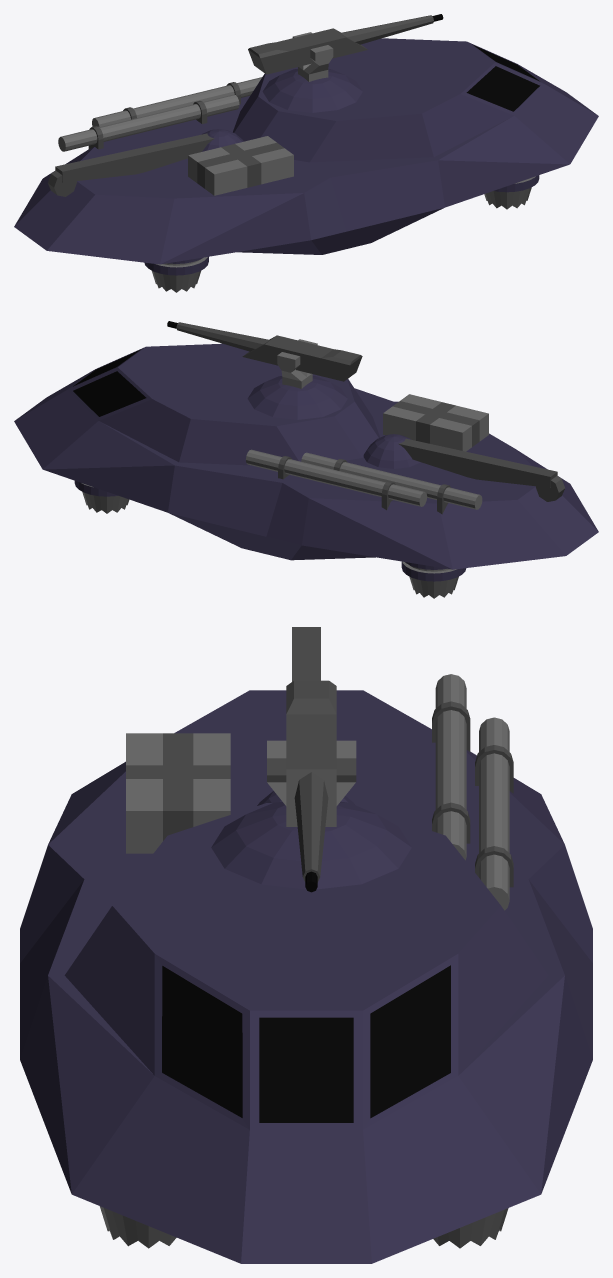
3 renders of one model, top to bottom at view 1: azimuth 30°, elevation 25°; view 2: azimuth 150°, elevation 25°; view 3: azimuth 270°, elevation 25°, orthographic. The views are drawn at different scales.
Visible parts, largest first — view 1: Body, Turret, Gune_Base, Reactor RR, Cannon, Reactor FR; view 2: Body, Turret, Gune_Base, Reactor RL, Cannon, Reactor FL; view 3: Body, Turret, Gune_Base, Cannon, Reactor FR, Reactor FL.
Part boxes in pixels (x1=…): Body: x1=14, y1=38, x2=598, y2=264; Turret: x1=262, y1=32, x2=362, y2=112; Gune_Base: x1=248, y1=28, x2=367, y2=74; Reactor RR: x1=144, y1=256, x2=208, y2=292; Cannon: x1=340, y1=14, x2=443, y2=44; Reactor FR: x1=484, y1=175, x2=539, y2=209; Body: x1=14, y1=343, x2=598, y2=569; Turret: x1=247, y1=339, x2=347, y2=419; Gune_Base: x1=242, y1=335, x2=362, y2=381; Reactor RL: x1=401, y1=561, x2=466, y2=598; Cannon: x1=167, y1=321, x2=269, y2=351; Reactor FL: x1=74, y1=481, x2=129, y2=513; Body: x1=20, y1=627, x2=592, y2=1263; Turret: x1=211, y1=740, x2=411, y2=889; Gune_Base: x1=286, y1=680, x2=336, y2=826; Cannon: x1=294, y1=772, x2=328, y2=892; Reactor FR: x1=99, y1=1206, x2=176, y2=1248; Reactor FL: x1=433, y1=1208, x2=508, y2=1248.
Bounding box in the file's own units: 2433 × 730 × 1093.
